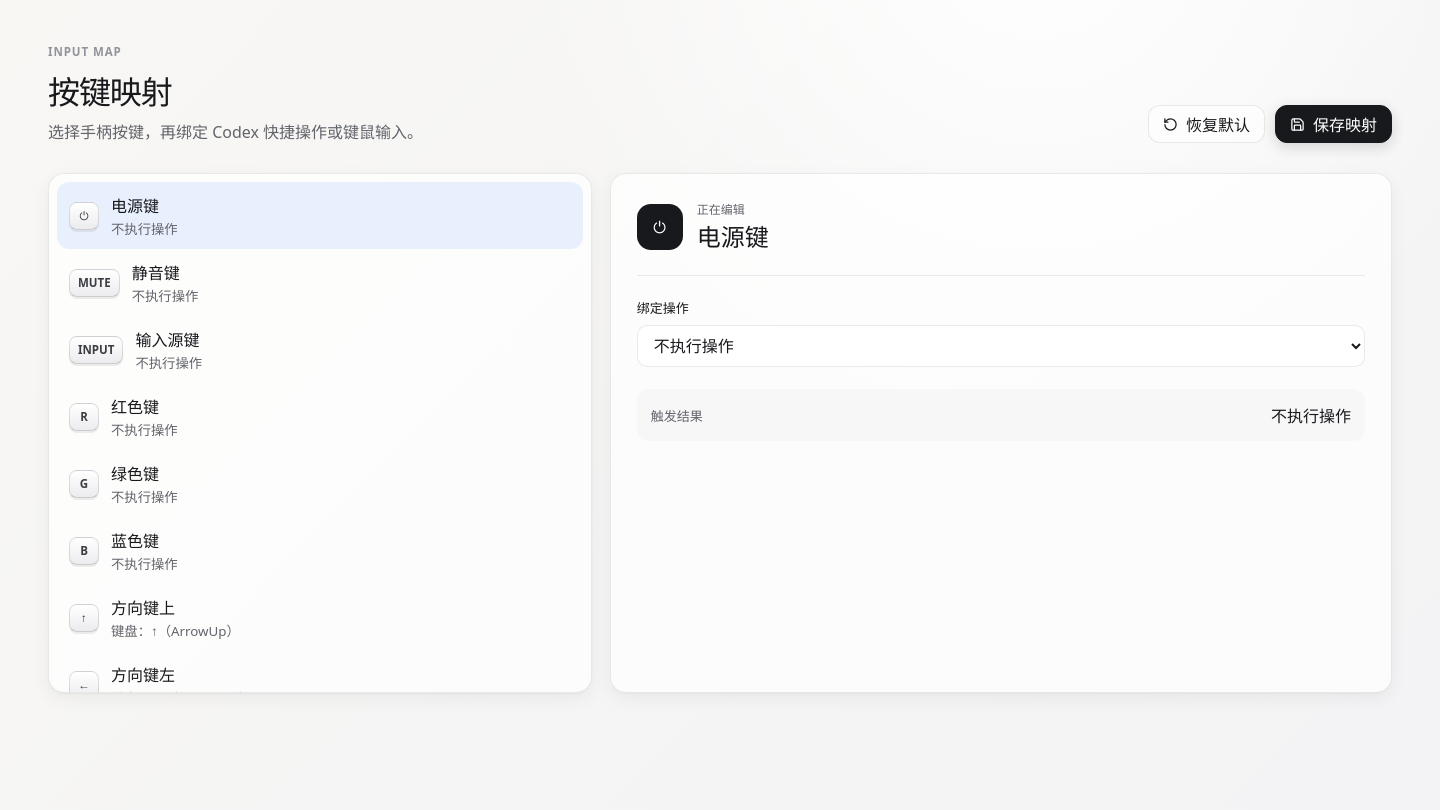
Test: MappingEditor › uses neutral remote controls and RC901A defaults for TCL
expect the button "⏻ 电源键 不执行操作" is shown: met, box [57,182,583,249]
expect the button "INPUT 输入源键 不执行操作" is shown: met, box [57,316,583,383]
Click the button "保存映射".
click(1334, 124)  # box [1275,105,1392,143]
(page scrolled)
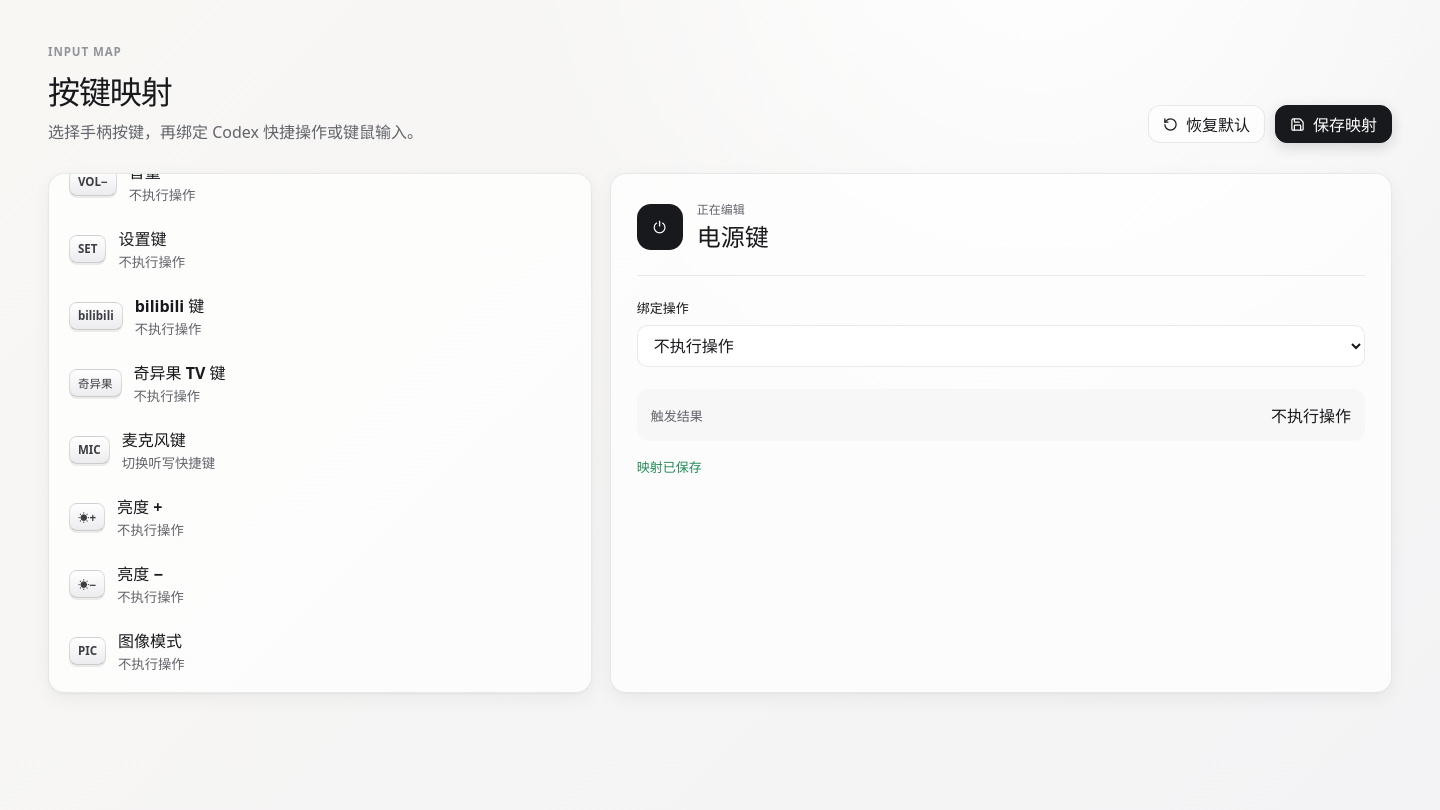
expect the button "☀+ 亮度 + 不执行操作" is shown: met, box [57,483,583,550]
expect the button "☀− 亮度 − 不执行操作" is shown: met, box [57,550,583,617]
expect the button "PIC 图像模式 不执行操作" is shown: met, box [57,617,583,684]
